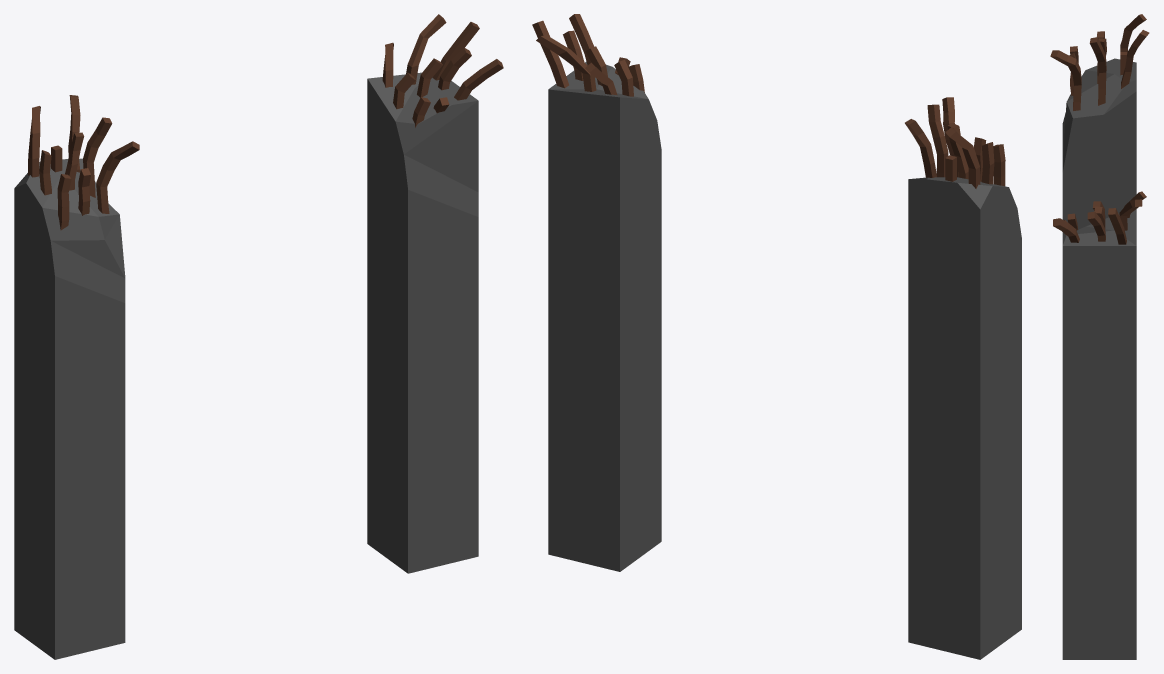
The model's file is Brocken Columns.glb.
3 renders of one model, left to right at view 1: azimuth 30°, elevation 25°; view 2: azimuth 150°, elevation 25°; view 3: azimuth 270°, elevation 25°, orthographic. The views are drawn at different scales.
Visible parts, largest first — view 1: Broken Column.001, Broken Column, Column.armbars 1, Column.armbars; view 2: Broken Column.001, Broken Column, Column.armbars 1, Column.armbars; view 3: Broken Column.001, Broken Column, Column.armbars 1, Column.armbars.
Part boxes in pixels (box(x1,y1,x2,y2)): Broken Column.001: box(367, 72, 478, 573); Broken Column: box(14, 158, 125, 659); Column.armbars 1: box(28, 95, 139, 230); Column.armbars: box(382, 14, 503, 127); Broken Column.001: box(548, 61, 661, 571); Broken Column: box(908, 177, 1021, 659); Column.armbars 1: box(905, 97, 1005, 188); Column.armbars: box(532, 14, 644, 96); Broken Column.001: box(1062, 209, 1136, 659); Broken Column: box(1062, 58, 1136, 245); Column.armbars 1: box(1050, 14, 1149, 110); Column.armbars: box(1053, 191, 1146, 244).
Size of the model in its own units: 9.63 by 10.55 by 2.03.
1 material, 1 textured.
